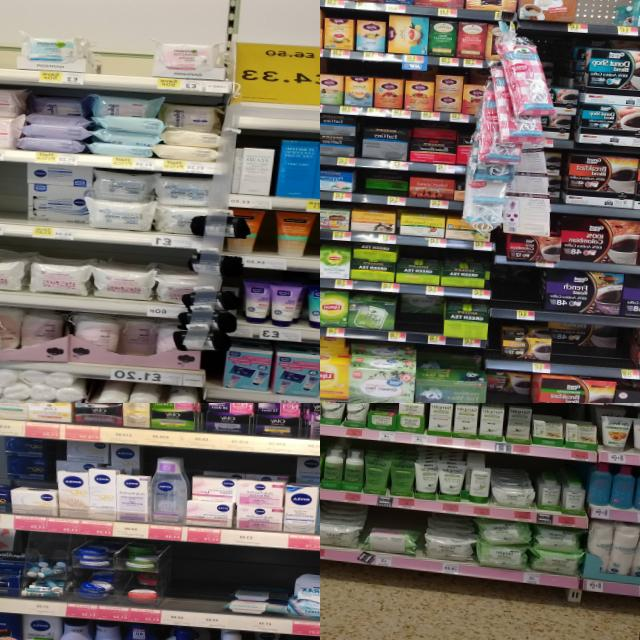100- O.O.S: (162, 542, 198, 626), (196, 546, 230, 628), (494, 266, 537, 320), (98, 46, 150, 90), (0, 162, 24, 235), (575, 0, 615, 33), (0, 47, 15, 81)
